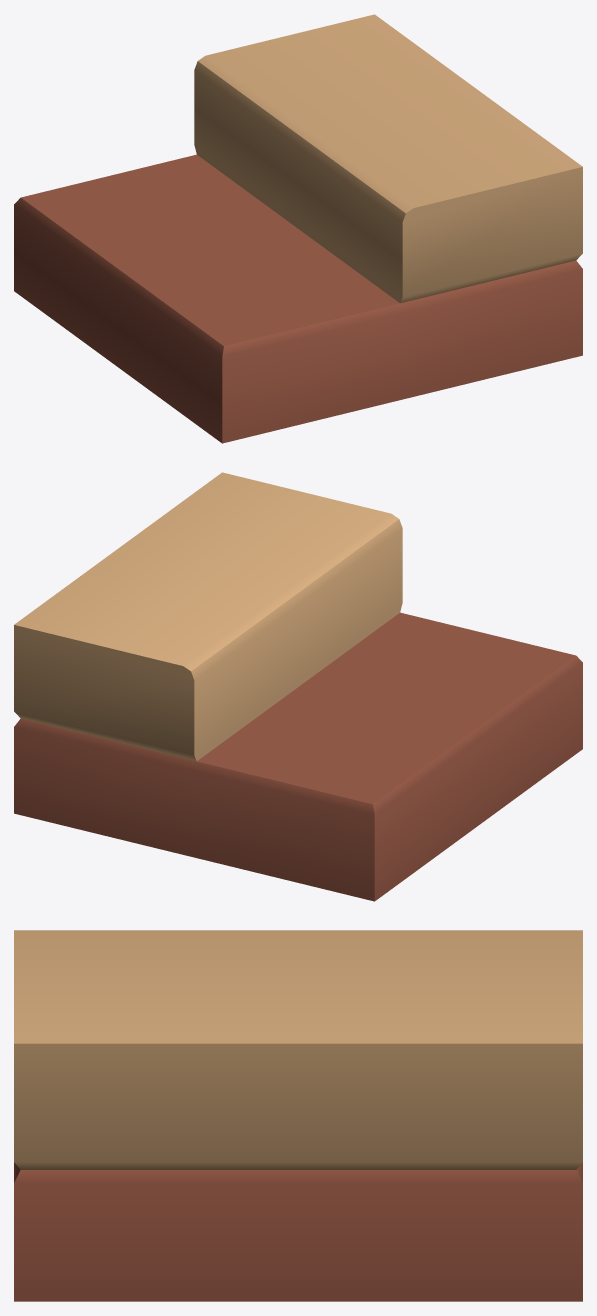
File: square_sand_waterStraight_empty.glb
3 renders of one model, top to bottom at view 1: azimuth 30°, elevation 25°; view 2: azimuth 150°, elevation 25°; view 3: azimuth 270°, elevation 25°, orthographic. The views are drawn at different scales.
Parts seen in each view (by area): view 1: square_sand_waterStraight_empty; view 2: square_sand_waterStraight_empty; view 3: square_sand_waterStraight_empty.
Boxes of the visible parts, <box> form: square_sand_waterStraight_empty: <box>14,14,582,443</box>; square_sand_waterStraight_empty: <box>14,472,582,901</box>; square_sand_waterStraight_empty: <box>14,930,582,1301</box>.
Size of the model in its own units: 2 by 1 by 2.
